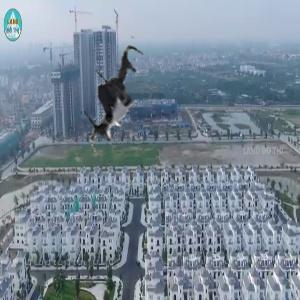drone: (59, 44, 170, 155)
